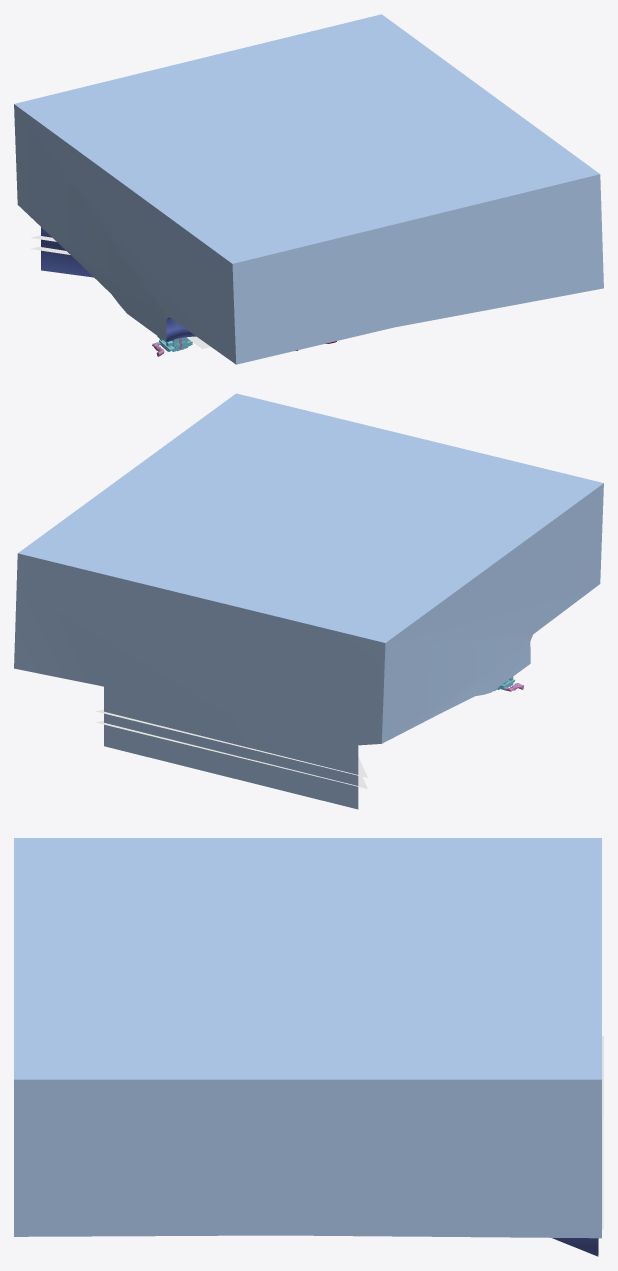
File: sentwall_4.fbx
3 renders of one model, top to bottom at view 1: azimuth 30°, elevation 25°; view 2: azimuth 150°, elevation 25°; view 3: azimuth 270°, elevation 25°, orthographic. The views are drawn at different scales.
Visible parts, largest first — view 1: sky.002, mesh_lowres.001; view 2: sky.002, +portal.001; view 3: sky.002.
Part boxes in pixels (left/top/right/bottom): sky.002: left=14, top=14, right=603, bottom=364; mesh_lowres.001: left=41, top=227, right=195, bottom=342; sky.002: left=14, top=393, right=603, bottom=809; +portal.001: left=95, top=709, right=367, bottom=788; sky.002: left=14, top=838, right=601, bottom=1254.
Size of what is drawn, in the model's own units: 41349 by 40446 by 20733.
